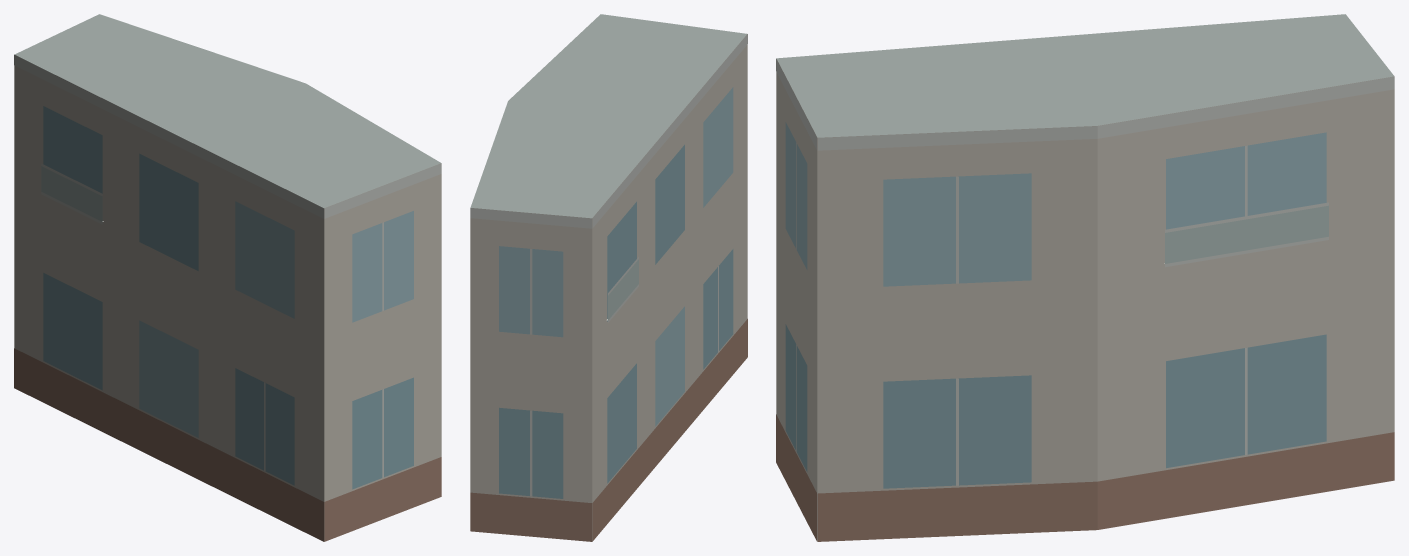
The model's file is survey-upis-32500599.glb.
3 views of the same model, side by side, from view 1: azimuth 30°, elevation 25°; view 2: azimuth 150°, elevation 25°; view 3: azimuth 270°, elevation 25° (orthographic). The views are drawn at different scales.
Visible parts, largest first — view 1: survey-upis-32500599.tmp; view 2: survey-upis-32500599.tmp; view 3: survey-upis-32500599.tmp.
Part boxes in pixels (box(x1,y1,x2,y2)): survey-upis-32500599.tmp: box(14, 14, 441, 541); survey-upis-32500599.tmp: box(470, 14, 747, 541); survey-upis-32500599.tmp: box(776, 14, 1394, 541).
Size of the model in its own units: 5 by 7.6 by 10.55.
